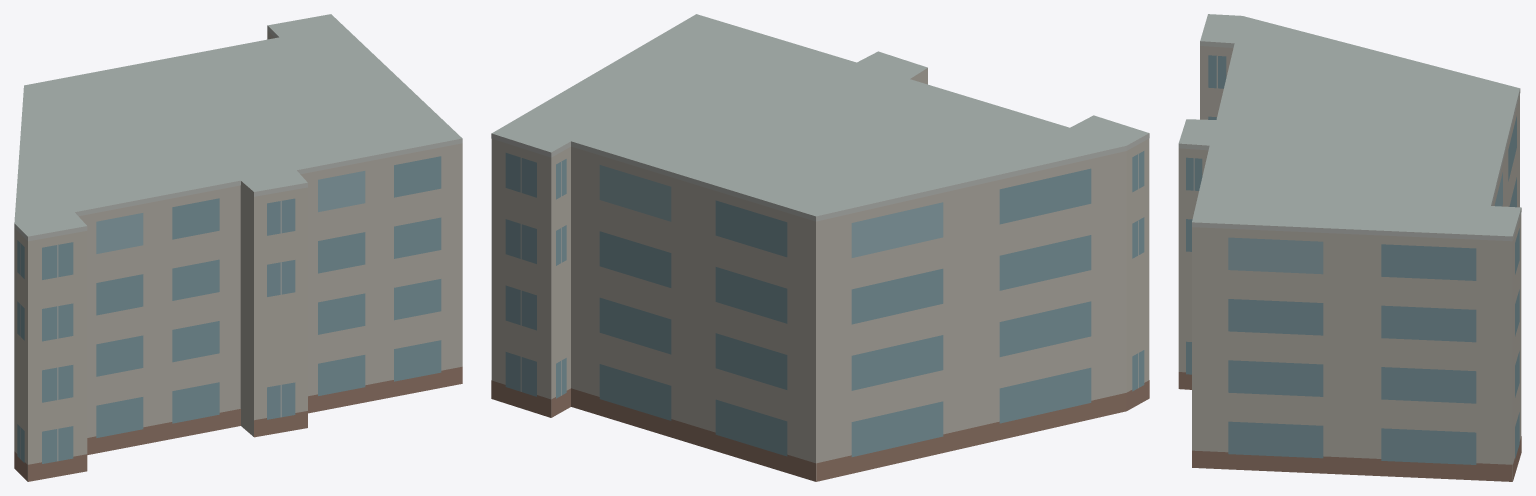
The model's file is survey-upis-32501841.glb.
3 renders of one model, left to right at view 1: azimuth 30°, elevation 25°; view 2: azimuth 150°, elevation 25°; view 3: azimuth 270°, elevation 25°, orthographic. The views are drawn at different scales.
Visible parts, largest first — view 1: survey-upis-32501841.tmp; view 2: survey-upis-32501841.tmp; view 3: survey-upis-32501841.tmp.
Boxes of the visible parts, x1,y1,x2,y2 form: survey-upis-32501841.tmp: (14, 14, 462, 481); survey-upis-32501841.tmp: (491, 14, 1149, 481); survey-upis-32501841.tmp: (1178, 14, 1521, 481).
Size of the model in its own units: 24.31 by 12.5 by 15.84.
